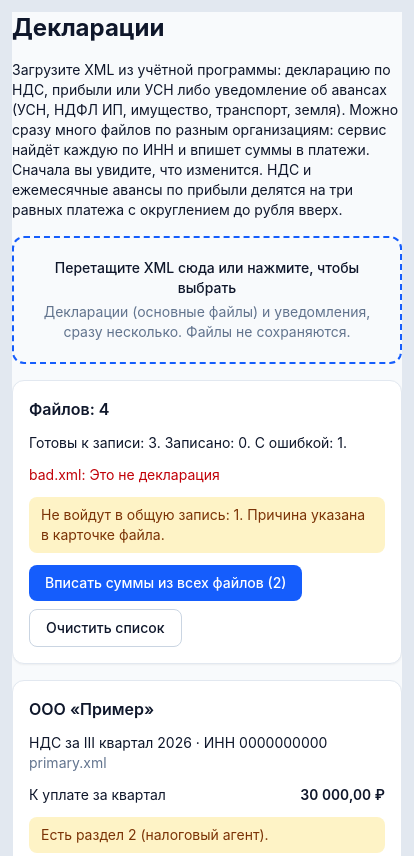
загрузка декларации › записывает всю пачку одной кнопкой, корректировку после исходной, ошибки не мешают
The width and height of the screenshot is (414, 856).
Earlier steps of the test are not shown.
Expected: the list item "bad.xml: Это не декларация" is shown, x1=29 y1=466 x2=220 y2=483
Click the button "Вписать суммы из всех файлов (2)". click: (166, 583)
box: x1=29 y1=565 x2=302 y2=601
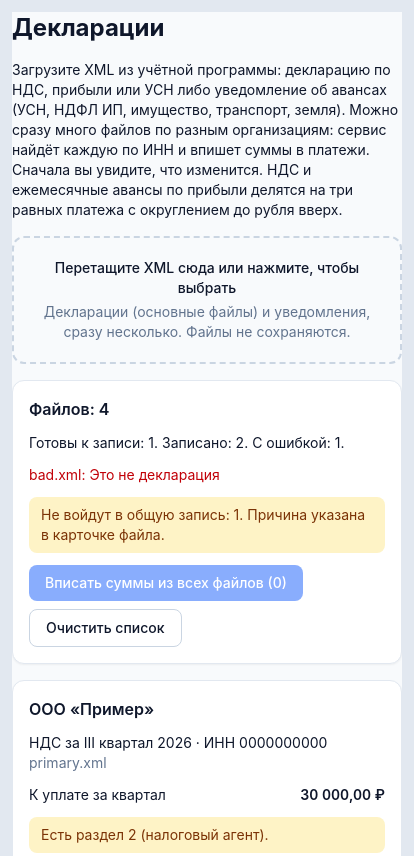
Expected: the message "Готовы к записи: 1. Записано: 2. С ошибкой: 1." is shown, x1=29 y1=433 x2=385 y2=453
